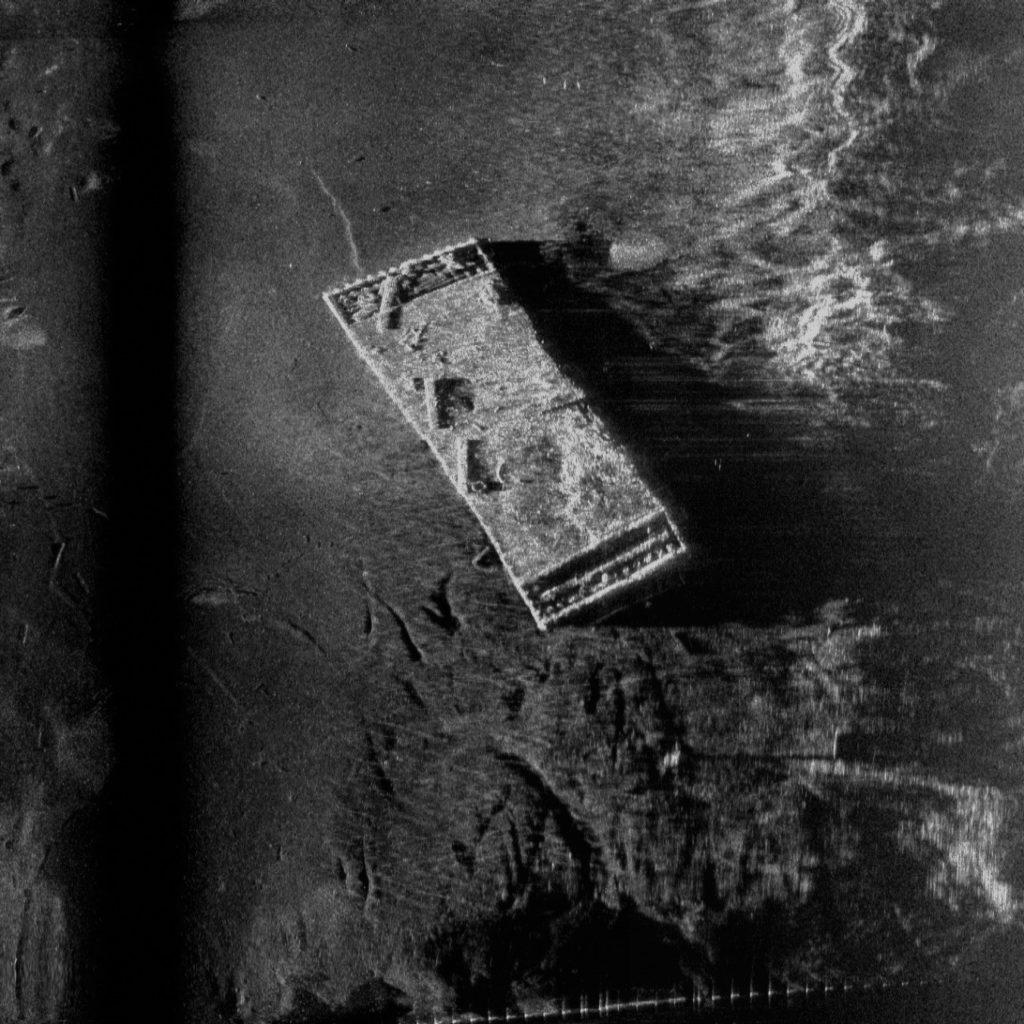ship: (319, 236, 684, 622)
